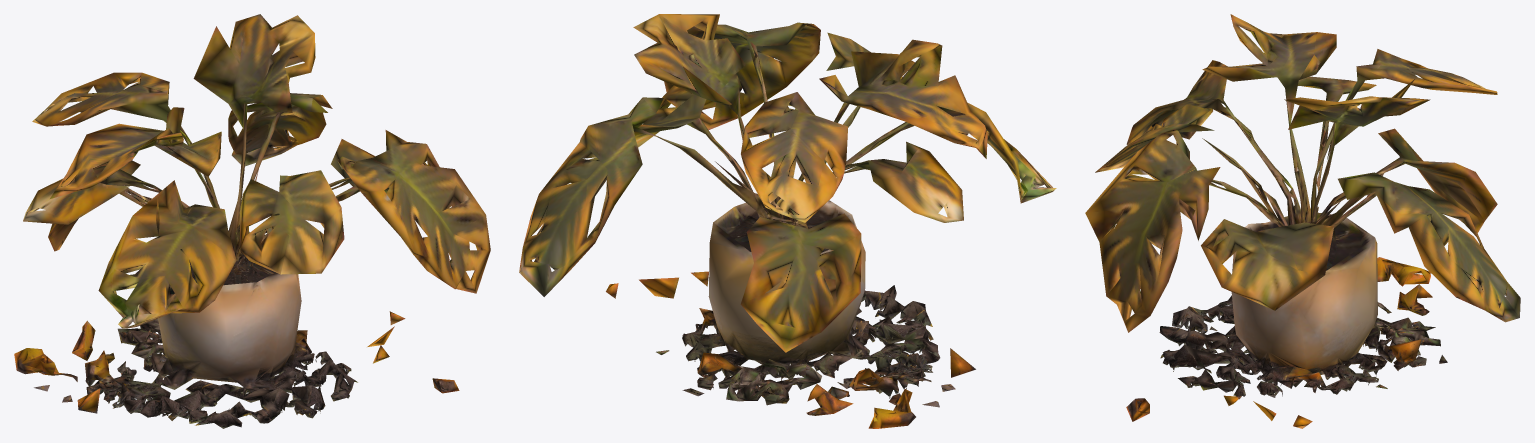
The model's file is Dead monstera.glb.
3 views of the same model, side by side, from view 1: azimuth 30°, elevation 25°; view 2: azimuth 150°, elevation 25°; view 3: azimuth 270°, elevation 25° (orthographic). The views are drawn at different scales.
Bounding box in the file's own units: 1.89 × 1.48 × 1.88.
Materials: 1 (1 with a texture image).
